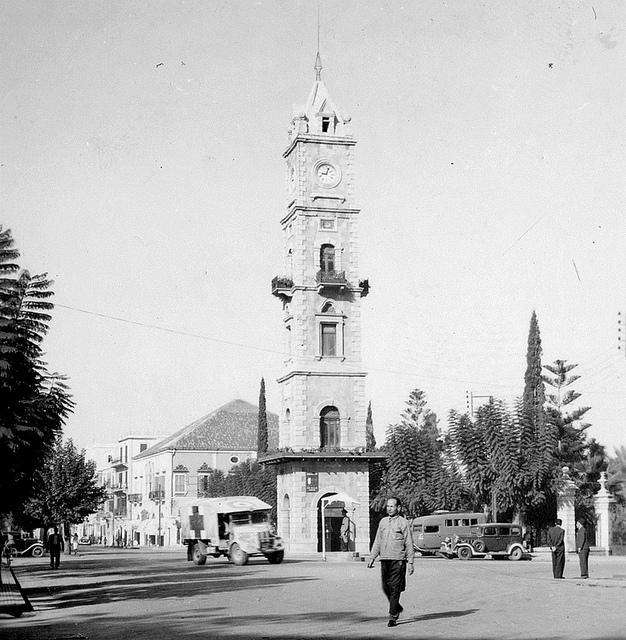car: (0, 532, 45, 558)
truck: (176, 496, 286, 568), (442, 523, 526, 561)
